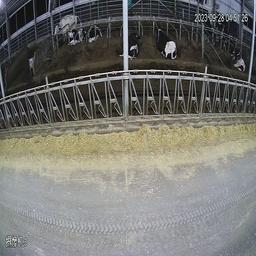cow: (153, 24, 180, 57), (54, 11, 75, 44), (128, 28, 141, 63), (214, 16, 229, 44), (70, 25, 85, 48), (86, 25, 104, 44), (232, 48, 246, 71)
